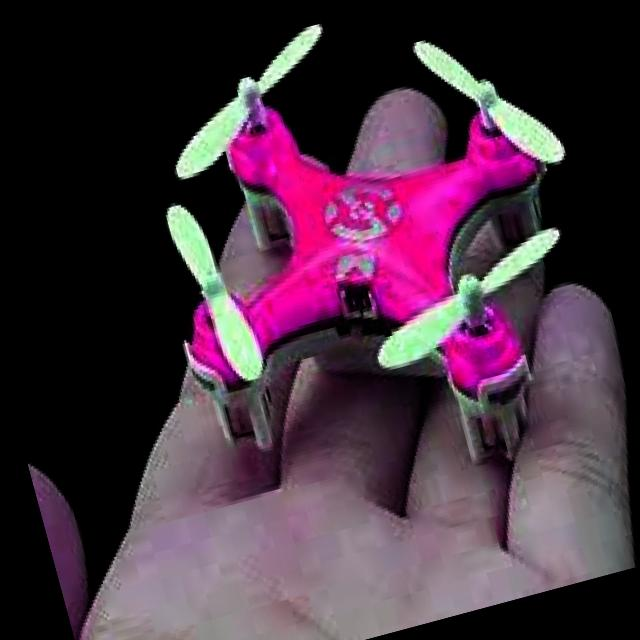drone: (115, 0, 640, 531)
